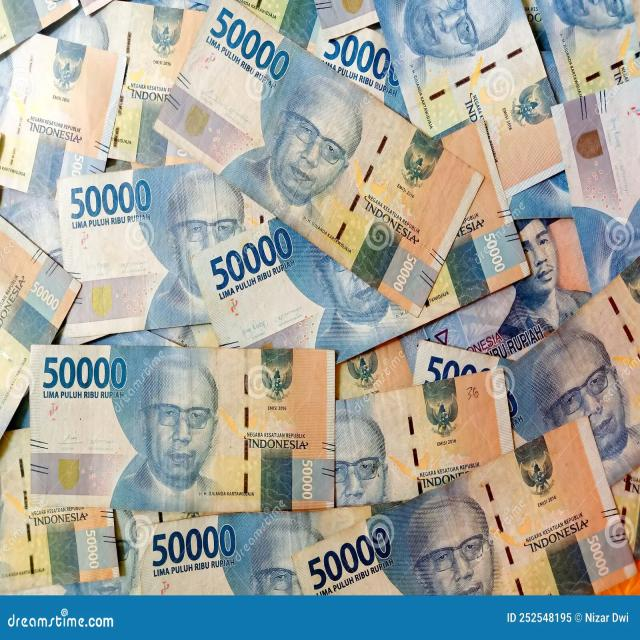lima puluh ribu rupiah: (151, 0, 487, 319), (189, 113, 532, 369), (288, 413, 639, 596), (29, 345, 336, 507), (56, 161, 277, 339), (334, 367, 515, 507), (136, 505, 372, 596)
